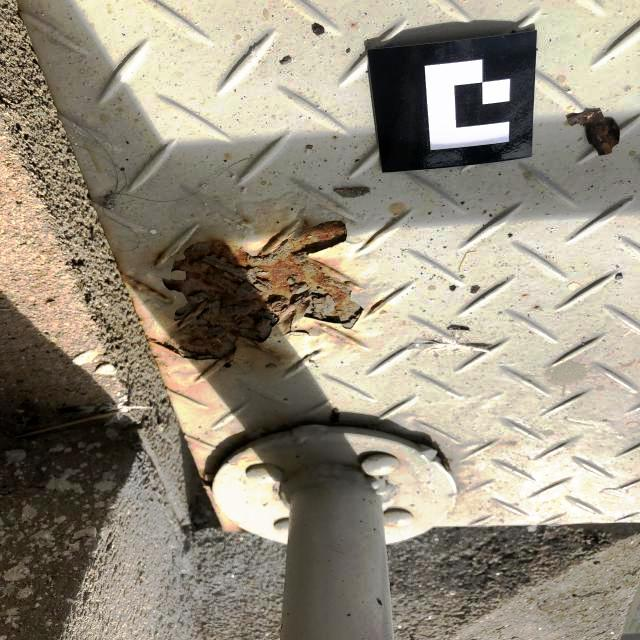Corrosion: (156, 219, 365, 368), (198, 437, 246, 494), (115, 257, 168, 300), (150, 246, 164, 266), (221, 528, 249, 533)
